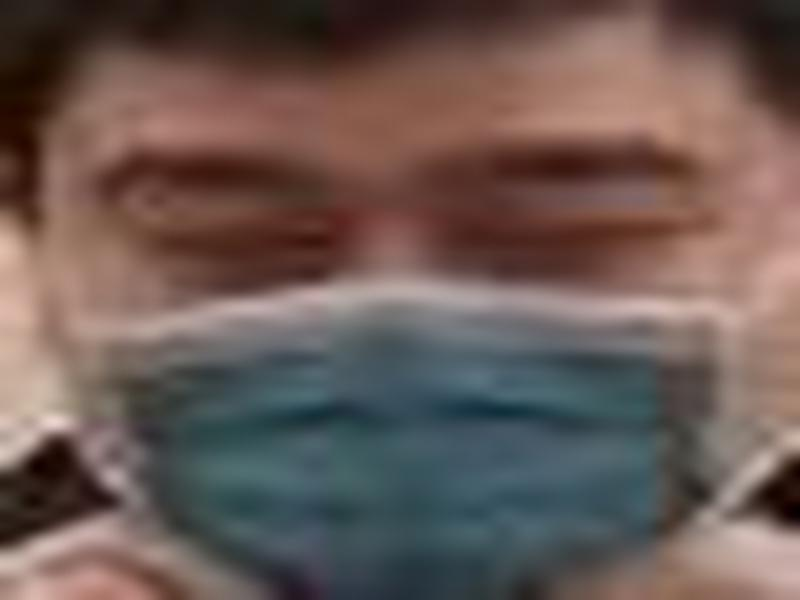with_mask: (43, 2, 799, 594)
